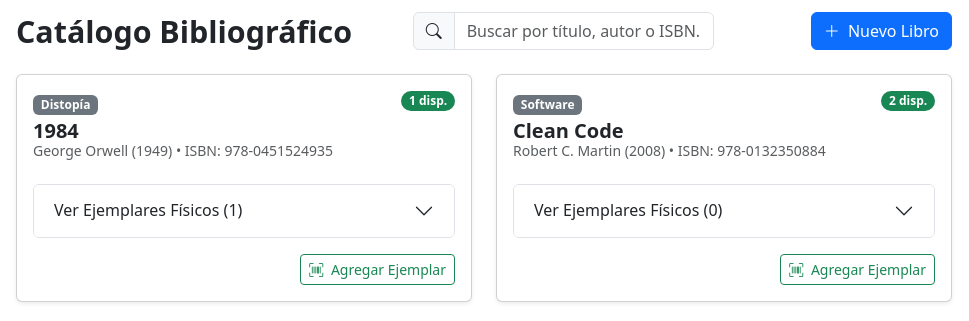
Test: CatalogoPage › muestra botones de gestión solo para Bibliotecario y filtra por búsqueda
Check: the button "Nuevo Libro" is shown, box x1=811 y1=12 x2=952 y2=50
Check: the text "1984" is shown, box x1=33 y1=117 x2=79 y2=144
Type "Orwell" into the field with placeholder "Buscar por título, autor o ISBN..." at (584, 31), box x1=454 y1=12 x2=714 y2=50
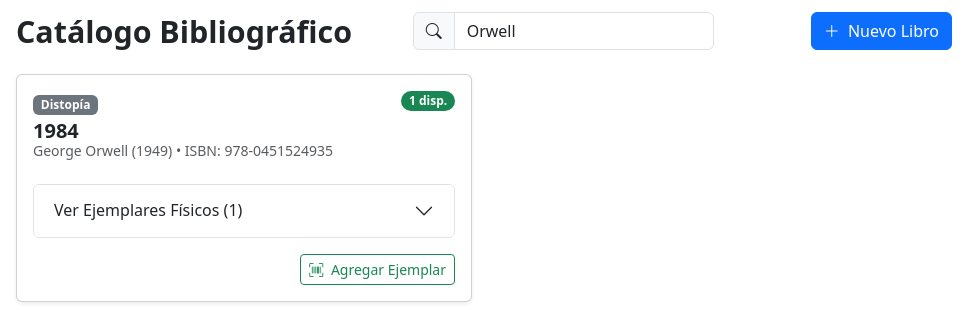
Check: the text "1984" is shown, box x1=33 y1=117 x2=79 y2=144
Check: the text "Clean Code" is gone
